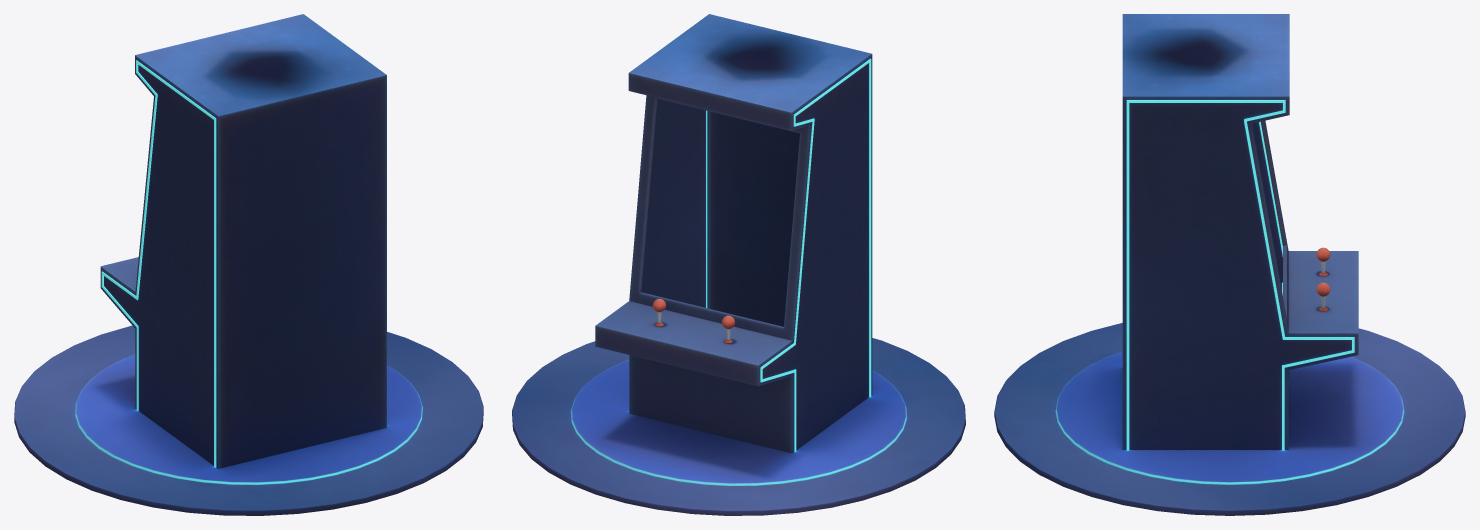
The picture shows the model from 3 angles, left to right: view 1: azimuth 30°, elevation 25°; view 2: azimuth 150°, elevation 25°; view 3: azimuth 270°, elevation 25°; orthographic projection. The views are drawn at different scales.
Visible parts, largest first — view 1: Game Station_PROCESSED.001; view 2: Game Station_PROCESSED.001; view 3: Game Station_PROCESSED.001.
Part boxes in pixels (bbox=[...]): Game Station_PROCESSED.001: bbox=[14, 14, 483, 515]; Game Station_PROCESSED.001: bbox=[512, 14, 965, 515]; Game Station_PROCESSED.001: bbox=[994, 14, 1465, 515].
Size of the model in its own units: 4.1 by 3.47 by 4.1.
Materials: 1 (1 with a texture image).
